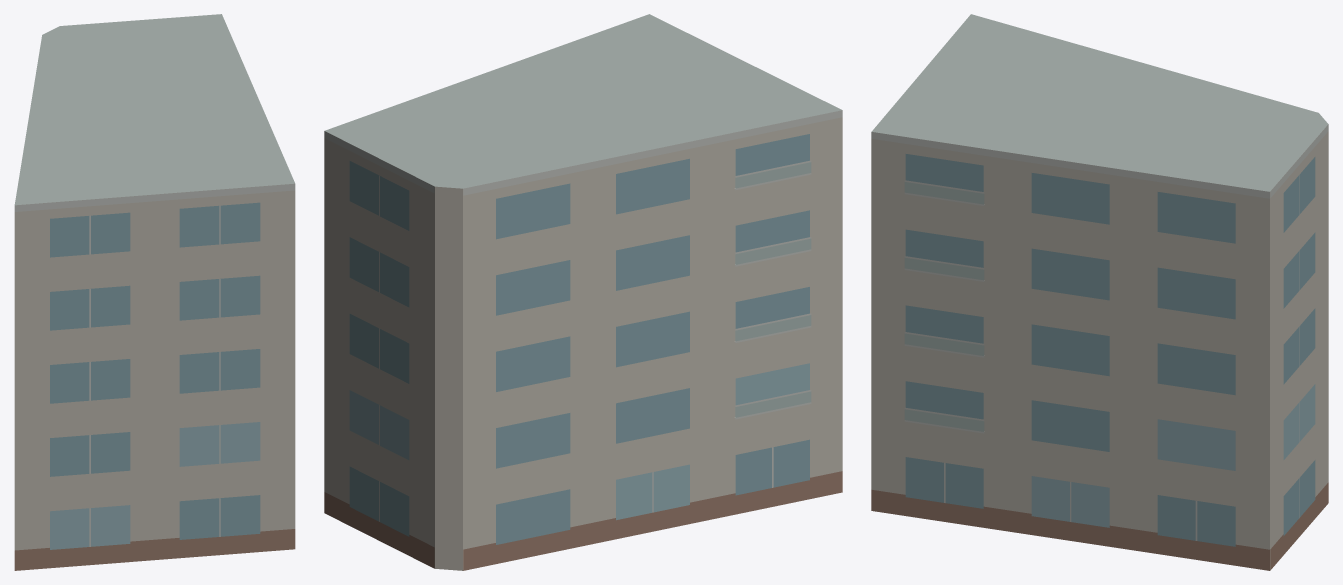
Rendered from survey-upis-32882616.glb.
3 views of the same model, side by side, from view 1: azimuth 30°, elevation 25°; view 2: azimuth 150°, elevation 25°; view 3: azimuth 270°, elevation 25° (orthographic). The views are drawn at different scales.
Parts seen in each view (by area): view 1: survey-upis-32882616.tmp; view 2: survey-upis-32882616.tmp; view 3: survey-upis-32882616.tmp.
Boxes of the visible parts, x1,y1,x2,y2 form: survey-upis-32882616.tmp: (14, 14, 295, 570); survey-upis-32882616.tmp: (324, 14, 842, 570); survey-upis-32882616.tmp: (871, 14, 1328, 570).
Size of the model in its own units: 13.29 by 13.2 by 14.44.
